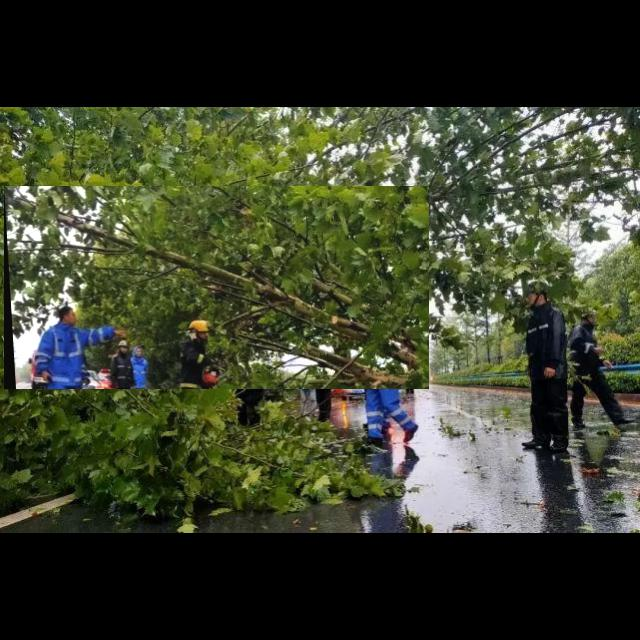Fallen Tree: (4, 186, 430, 390)
